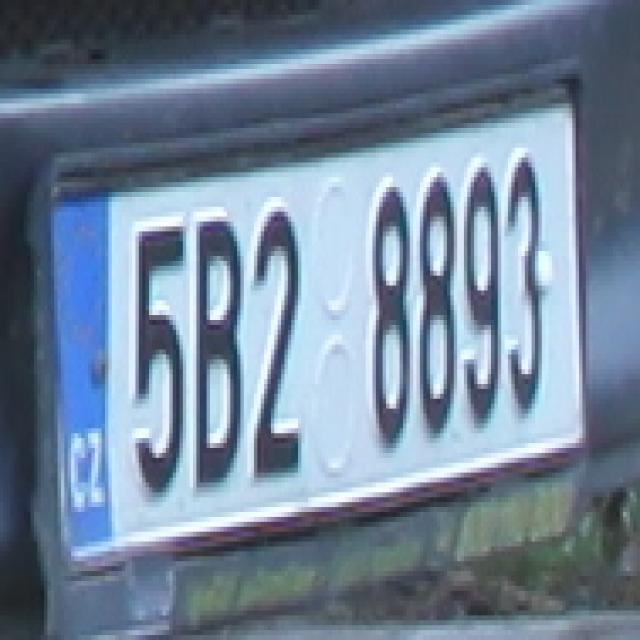2: (248, 192, 302, 482)
3: (501, 142, 549, 424)
5: (128, 207, 186, 502)
8: (359, 172, 410, 458), (413, 158, 461, 448)
9: (457, 138, 501, 438)
B: (193, 207, 244, 492)
